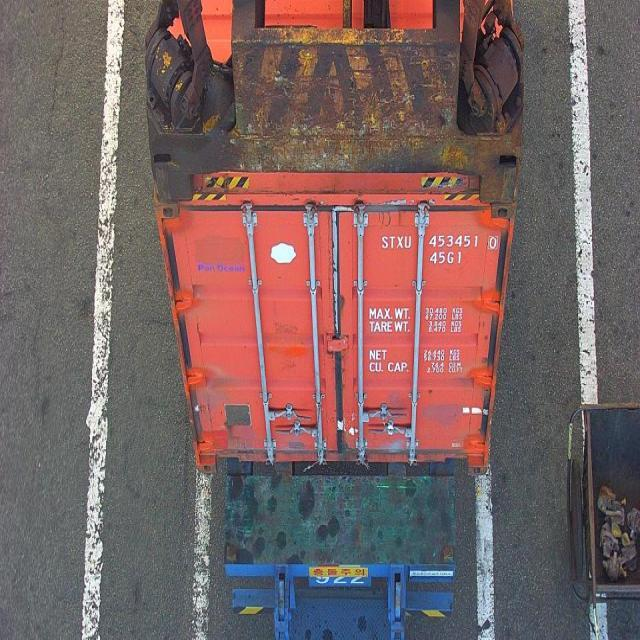ISO: (430, 247, 460, 270)
container_number: (376, 235, 497, 250)
